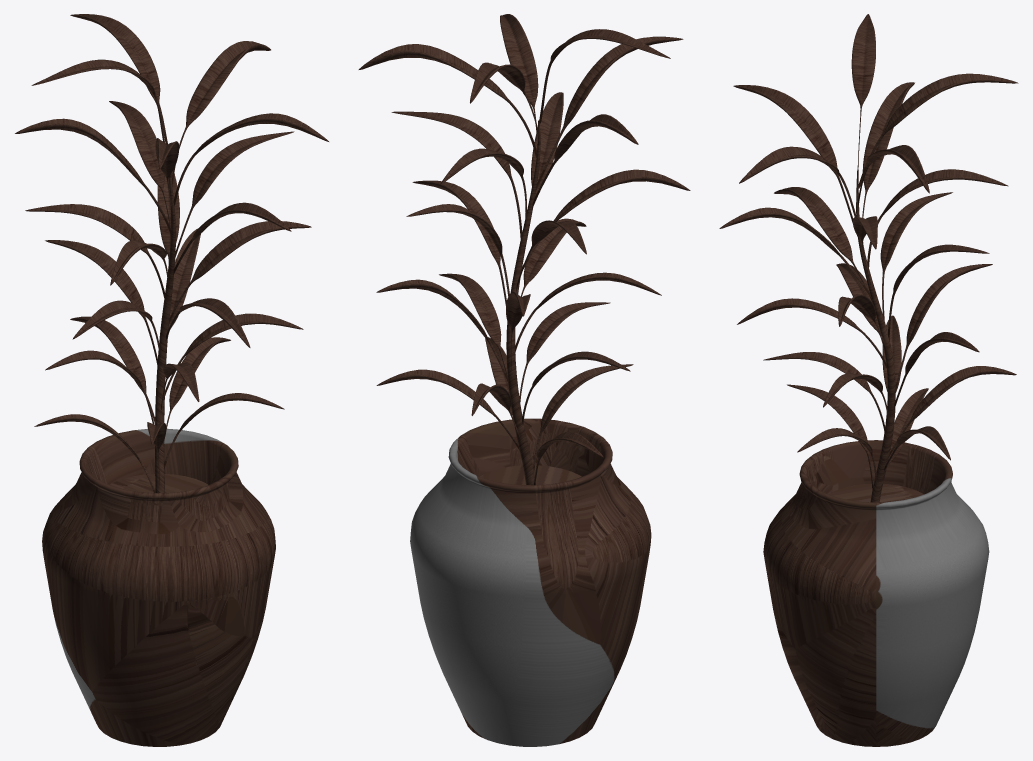
Rendered from BigPot.obj.
3 renders of one model, left to right at view 1: azimuth 30°, elevation 25°; view 2: azimuth 150°, elevation 25°; view 3: azimuth 270°, elevation 25°, orthographic. The views are drawn at different scales.
Parts seen in each view (by area): view 1: Cylinder; view 2: Cylinder; view 3: Cylinder.
Boxes of the visible parts, x1,y1,x2,y2 form: Cylinder: (15, 14, 328, 746); Cylinder: (358, 14, 690, 746); Cylinder: (719, 14, 1018, 746).
Bounding box in the file's own units: 3.6 × 8.58 × 3.57.
